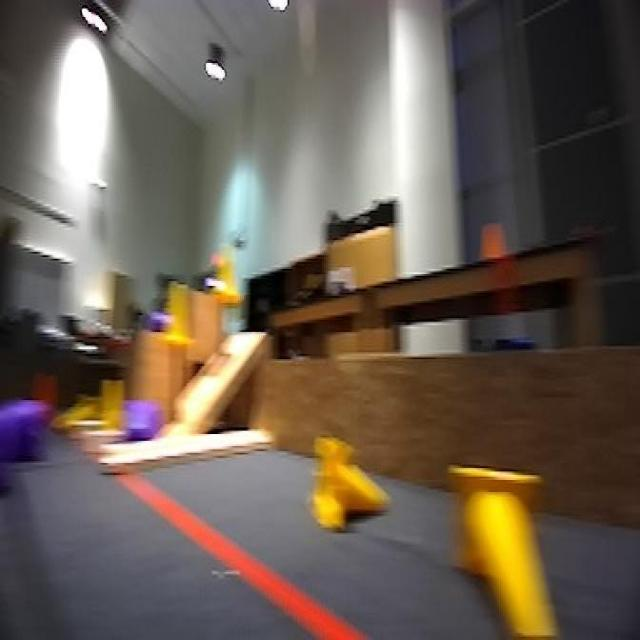frc_cone: (449, 466, 558, 640), (316, 432, 390, 543), (157, 269, 191, 356), (209, 240, 237, 308), (53, 397, 104, 434), (101, 378, 122, 437)
frc_cube: (0, 404, 48, 459), (114, 402, 152, 448), (140, 305, 161, 337)
